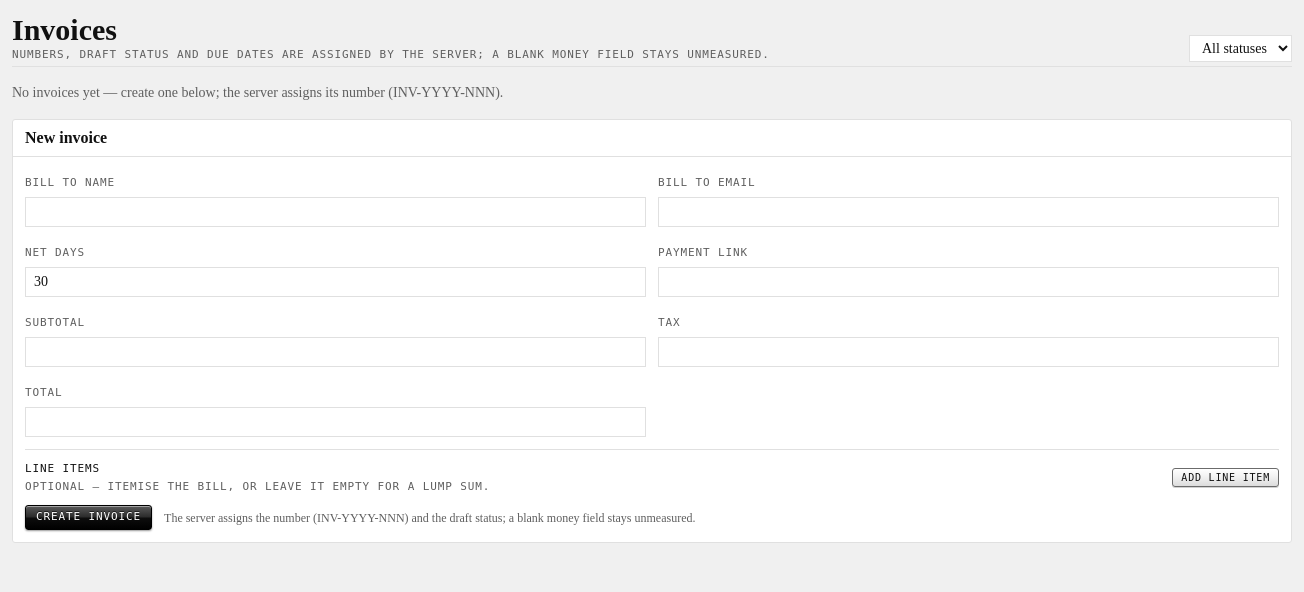
Test: InvoicesPage — create (POST /invoices) › an out-of-range net_days rides the body — the server refuses it BY NAME, it is never silently dropped (S2-F3)
The width and height of the screenshot is (1304, 592).
Expected: the text with test id "invoices-empty" is shown, x1=12 y1=85 x2=503 y2=100
Replace the text in the number field labelled "Net days" with "400" at [336, 282], box x1=25 y1=267 x2=646 y2=297
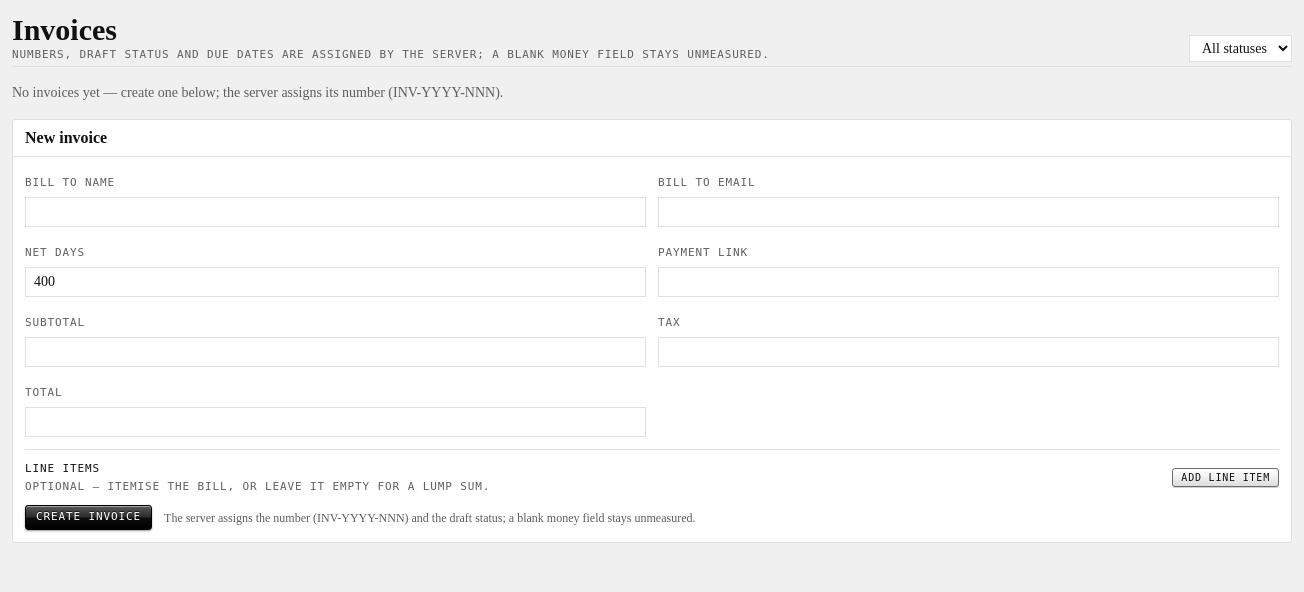
Click the button "Create invoice" at [88, 518], box x1=25 y1=505 x2=152 y2=530
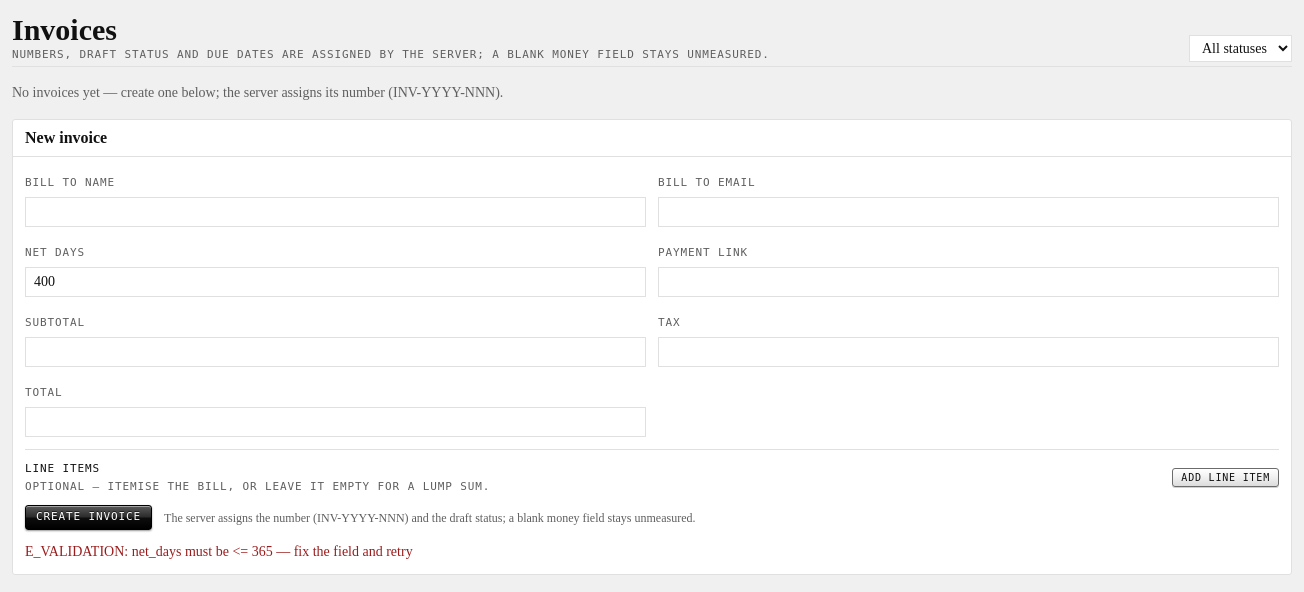
Expected: the message with test id "invoice-create-error" reads "E_VALIDATION: net_days must be <= 365 — fix the field and retry", x1=25 y1=544 x2=413 y2=559
